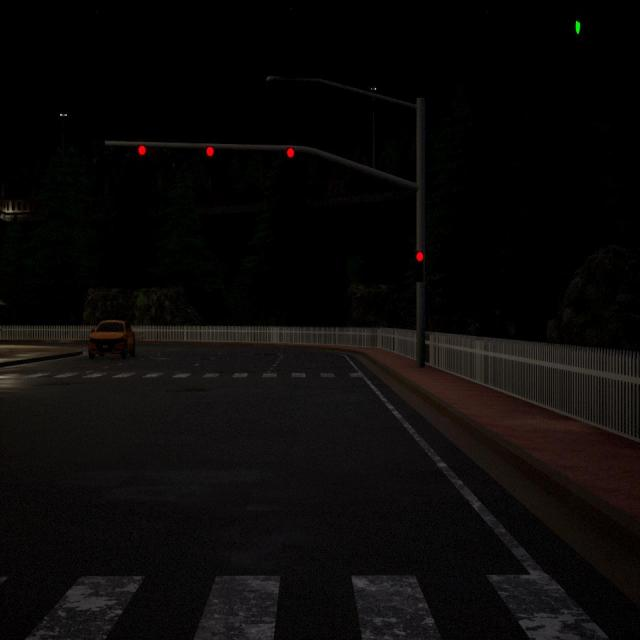Vehicle: (89, 320, 135, 359)
traffic_light: (414, 251, 424, 282), (286, 146, 297, 163), (136, 144, 147, 160), (205, 146, 216, 162)
